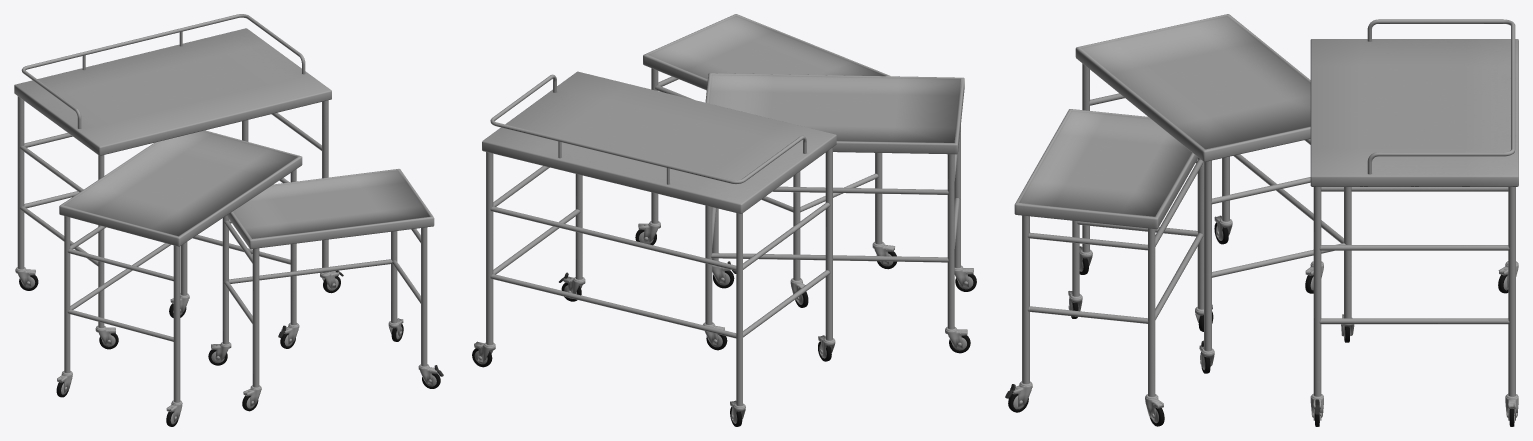
Rendered from laboratory__hospital_troly.glb.
3 views of the same model, side by side, from view 1: azimuth 30°, elevation 25°; view 2: azimuth 150°, elevation 25°; view 3: azimuth 270°, elevation 25° (orthographic). The views are drawn at different scales.
Visible parts, largest first — view 1: main toly; view 2: main toly; view 3: main toly.
Part boxes in pixels (<box>): main toly: <box>14,14,443,426</box>; main toly: <box>472,14,976,426</box>; main toly: <box>1005,14,1518,426</box>.
Size of what is drawn, in the model's own units: 1.8 by 1.17 by 2.01.
Materials: 1 (1 with a texture image).
